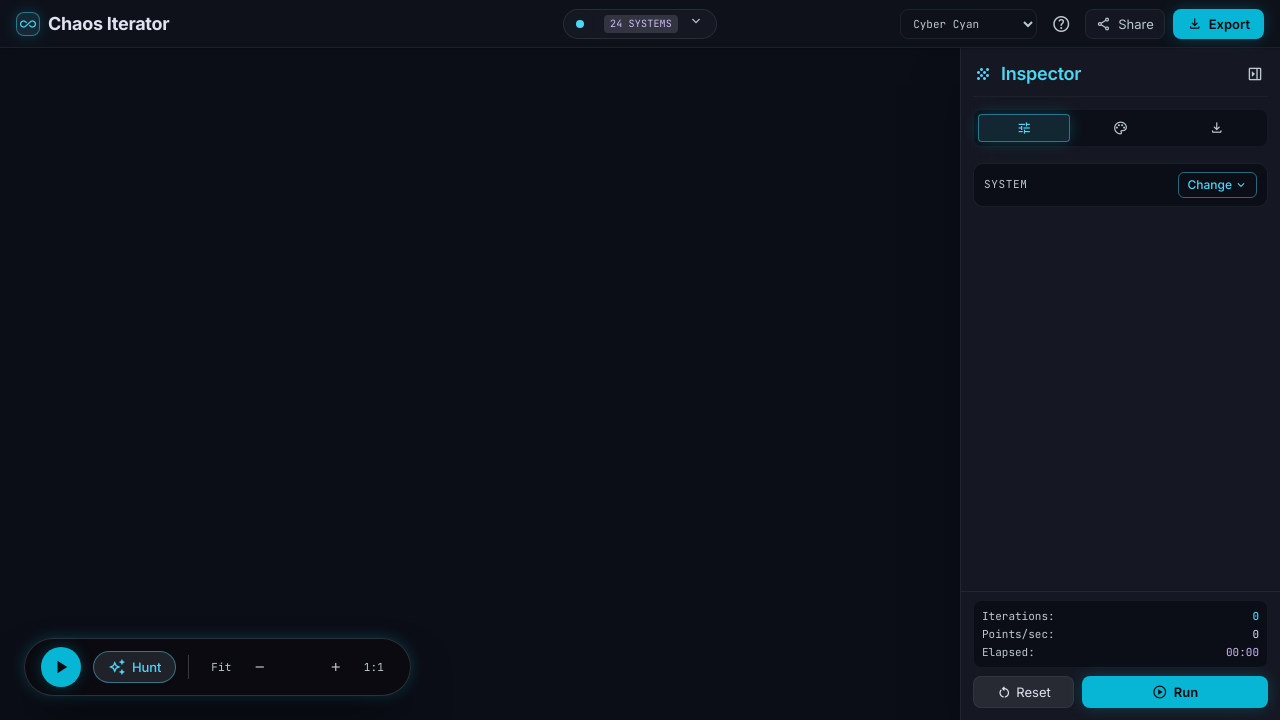
ResponsiveShell › on desktop, the inspector's Change button opens the top-bar system picker
Click the button with aria-label "Change system".
click(1218, 185)  # box top-left (1178, 172), bottom-right (1257, 198)
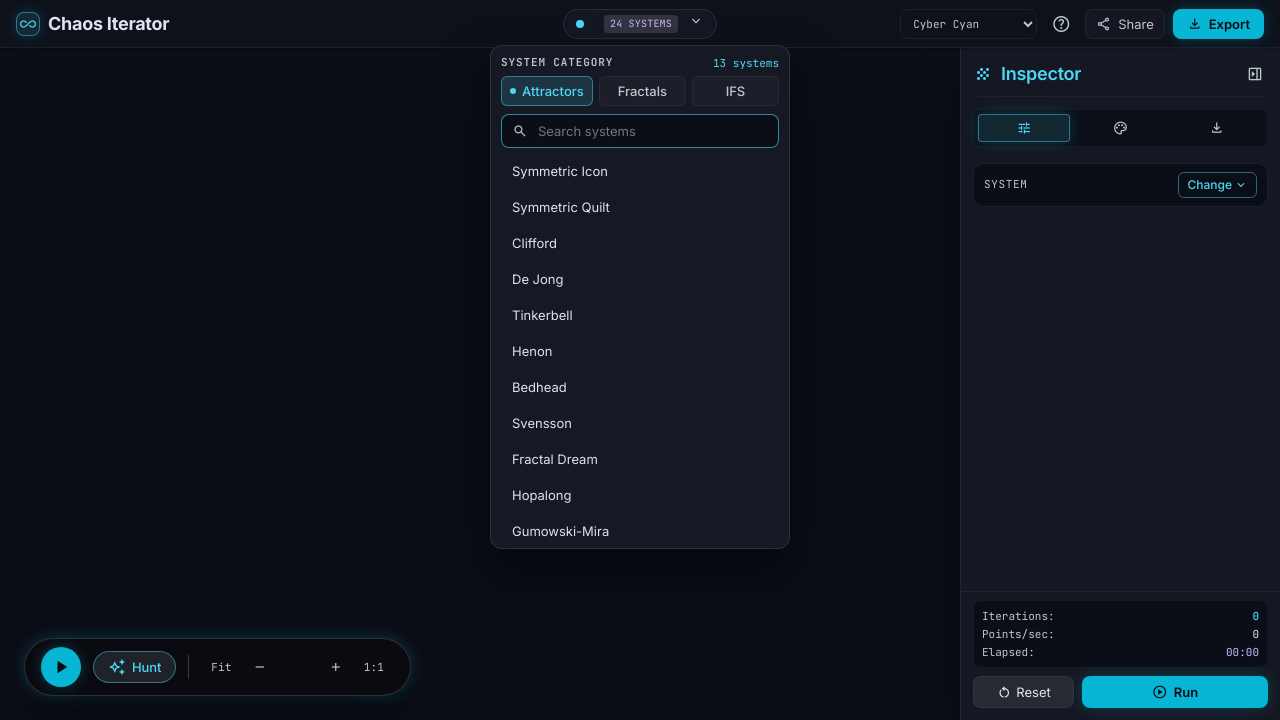
Result: the dialog named "Choose system" is shown at top-left (490, 44), bottom-right (790, 548)
